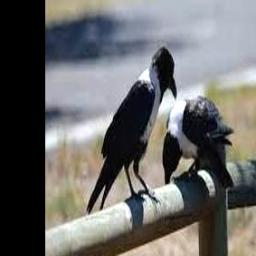Crow: (87, 48, 177, 219), (163, 95, 233, 185)
